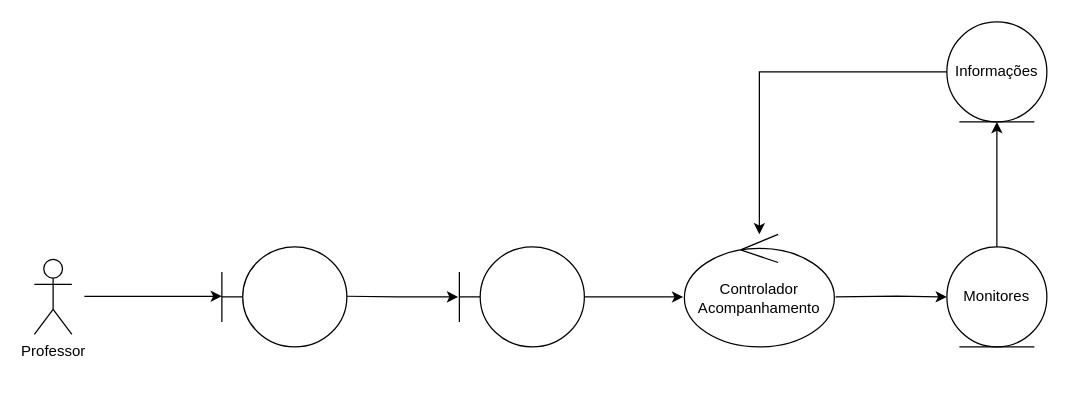
Some shapes in this 1069 by 401 pixel diagram are drawn without their labels. Each missing label, with the centre of its shape:
Tela Acompanhamento: [521,296]
Tela Monitoria: [284,296]
